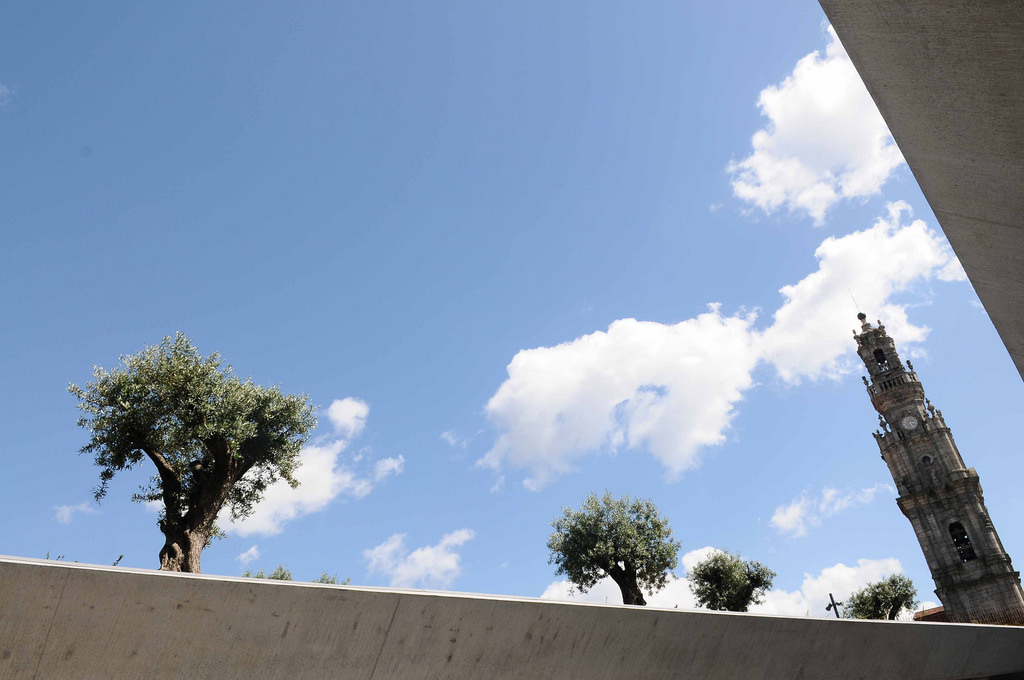clerigos: (842, 292, 1023, 624)
